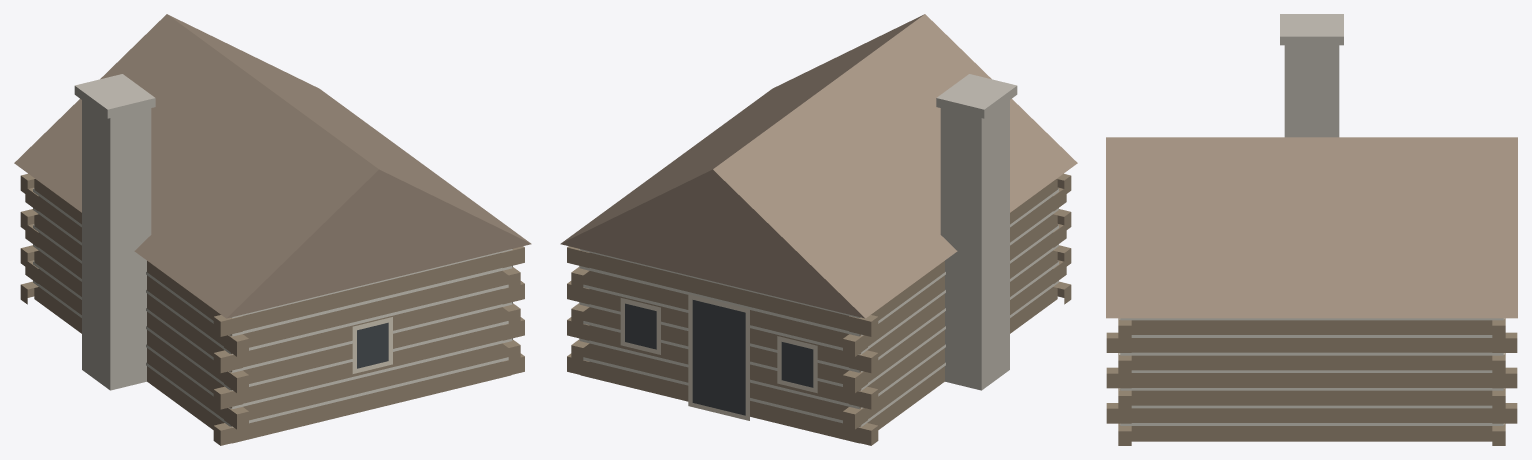
The model's file is recon_1835_west_001__inferred_1835.glb.
3 renders of one model, left to right at view 1: azimuth 30°, elevation 25°; view 2: azimuth 150°, elevation 25°; view 3: azimuth 270°, elevation 25°, orthographic. The views are drawn at different scales.
Visible parts, largest first — view 1: recon_1835_west_001__inferred_1835; view 2: recon_1835_west_001__inferred_1835; view 3: recon_1835_west_001__inferred_1835.
Part boxes in pixels (<box>): recon_1835_west_001__inferred_1835: <box>14,14,531,445</box>; recon_1835_west_001__inferred_1835: <box>560,14,1077,445</box>; recon_1835_west_001__inferred_1835: <box>1106,14,1517,445</box>.
Size of the model in its own units: 6.56 by 5.38 by 7.21.
